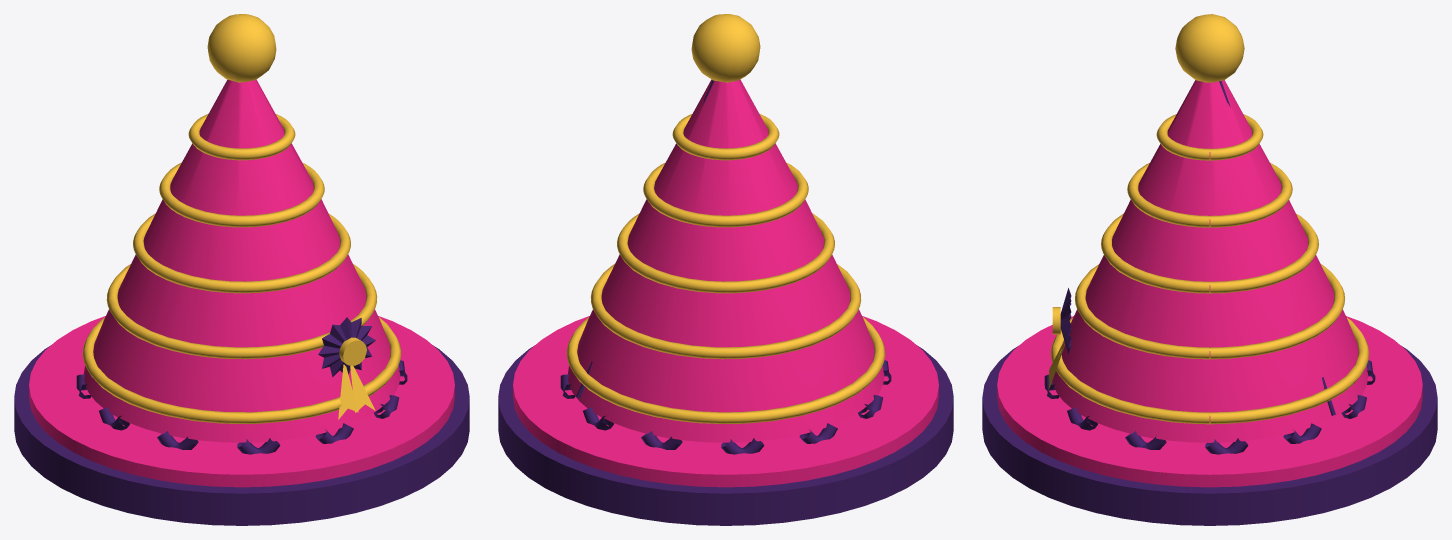
File: desk.hat.party.glb
3 views of the same model, side by side, from view 1: azimuth 30°, elevation 25°; view 2: azimuth 150°, elevation 25°; view 3: azimuth 270°, elevation 25° (orthographic).
Parts seen in each view (by area): view 1: party_cone, stand_trim, stand_base, party_braid, party_braid.001, pom_pom, party_braid.002, party_braid.003, party_braid.004, pleated_rosette, rosette_button, ribbon_tail; view 2: party_cone, stand_trim, stand_base, party_braid, party_braid.001, pom_pom, party_braid.002, party_braid.003, party_braid.004; view 3: party_cone, stand_trim, stand_base, party_braid, party_braid.001, pom_pom, party_braid.002, party_braid.003, party_braid.004.
Part boxes in pixels (x1,y1,x2,y2): party_cone: (83, 79, 400, 442); stand_trim: (29, 316, 454, 487); stand_base: (14, 345, 469, 525); party_braid: (82, 317, 401, 423); party_braid.001: (106, 264, 377, 359); pom_pom: (207, 14, 276, 82); party_braid.002: (133, 213, 350, 293); party_braid.003: (159, 162, 324, 227); party_braid.004: (188, 114, 295, 160); pleated_rosette: (318, 317, 375, 377); rosette_button: (339, 337, 366, 365); ribbon_tail: (338, 364, 358, 419); party_cone: (567, 79, 884, 442); stand_trim: (513, 316, 938, 487); stand_base: (498, 345, 953, 525); party_braid: (566, 316, 885, 423); party_braid.001: (590, 264, 861, 359); pom_pom: (691, 14, 760, 82); party_braid.002: (617, 213, 834, 293); party_braid.003: (643, 162, 808, 227); party_braid.004: (672, 114, 779, 160); party_cone: (1052, 80, 1368, 442); stand_trim: (997, 316, 1422, 487); stand_base: (982, 345, 1437, 525); party_braid: (1050, 317, 1369, 424); party_braid.001: (1075, 264, 1344, 359); pom_pom: (1175, 14, 1244, 82); party_braid.002: (1101, 213, 1318, 293); party_braid.003: (1127, 162, 1292, 227); party_braid.004: (1156, 114, 1263, 160).
Bounding box in the file's own units: 0.48 × 0.48 × 0.48.
